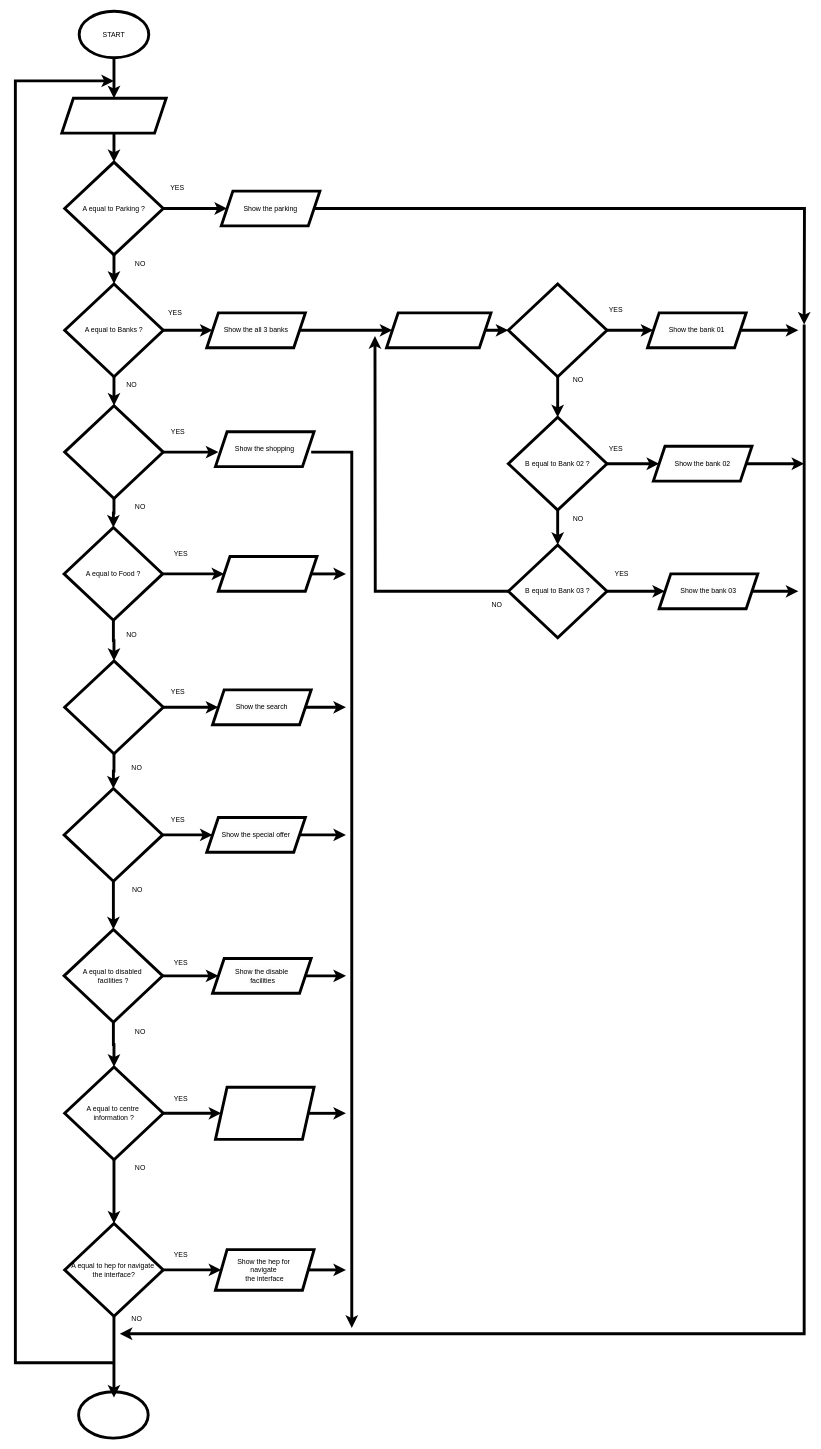
This 821x1449 diagram has some shape labels left out. The shapes that lost their labels are listed below. From the top down, each one's centre as x and y in pixels, then its label:
At pixel 113 115: "A = user's input".
At pixel 438 330: "B = user's input".
At pixel 557 330: "B equal to Bank 01 ?".
At pixel 113 452: "A equal to Shopping ?".
At pixel 267 573: "Show the food".
At pixel 113 707: "A equal to Search ?".
At pixel 113 834: "A equal to Special offer ?".
At pixel 264 1113: "Show the centre information (fire escape)".
At pixel 113 1414: "END".
